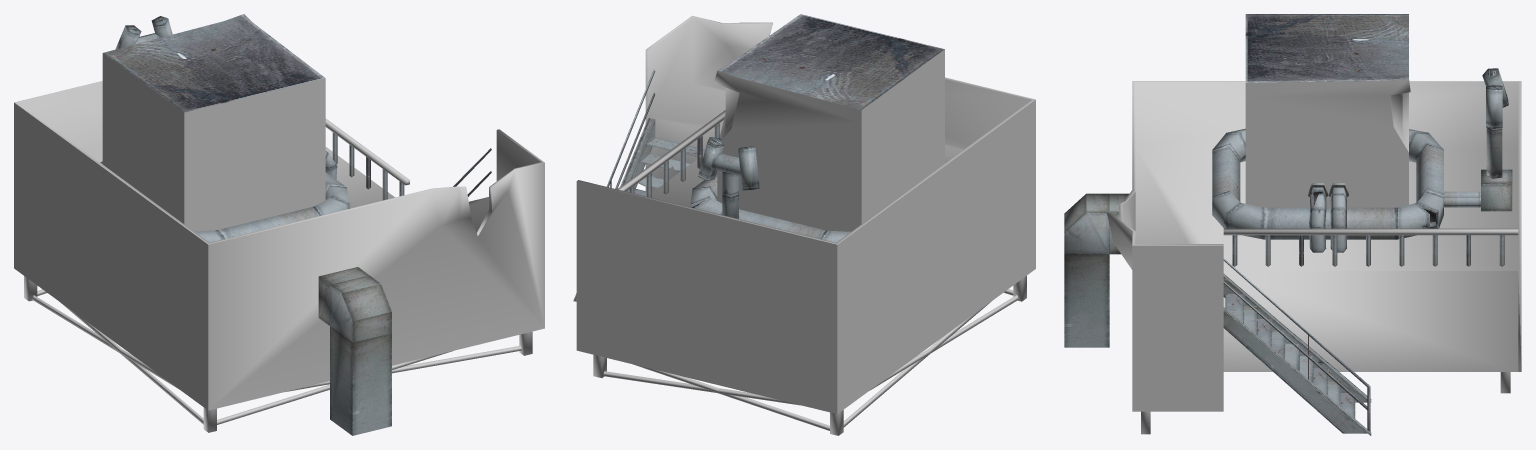
Rendered from Air_vent_platform.fbx.
3 views of the same model, side by side, from view 1: azimuth 30°, elevation 25°; view 2: azimuth 150°, elevation 25°; view 3: azimuth 270°, elevation 25° (orthographic). The views are drawn at different scales.
Visible parts, largest first — view 1: Air_vent_platform; view 2: Air_vent_platform; view 3: Air_vent_platform.
Boxes of the visible parts, x1,y1,x2,y2 form: Air_vent_platform: [14, 14, 544, 435]; Air_vent_platform: [573, 14, 1035, 435]; Air_vent_platform: [1064, 14, 1521, 435].
Bounding box in the file's own units: 711 × 566 × 835.
